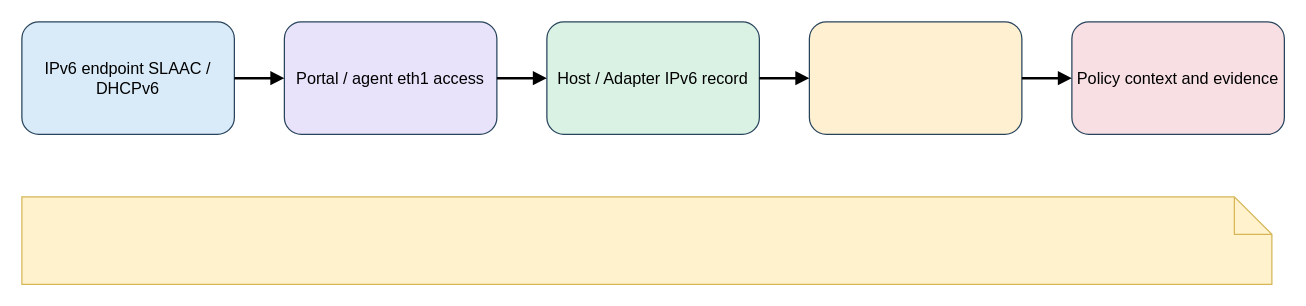
Image size: 1306x306. Some labels were removed from this diagram. Each missing label, with the centre of its shape:
"Boundary: IPv6 endstation support does not imply IPv6 discovery of every switch." belongs at (646,240).
"Inventory device IPv4 management" belongs at (915,77).
